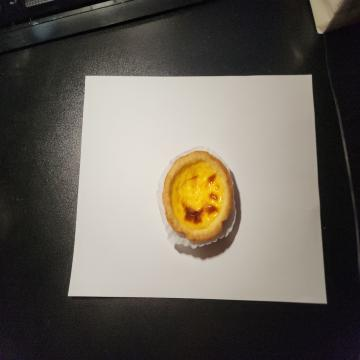EggTart: (162, 150, 234, 242)
